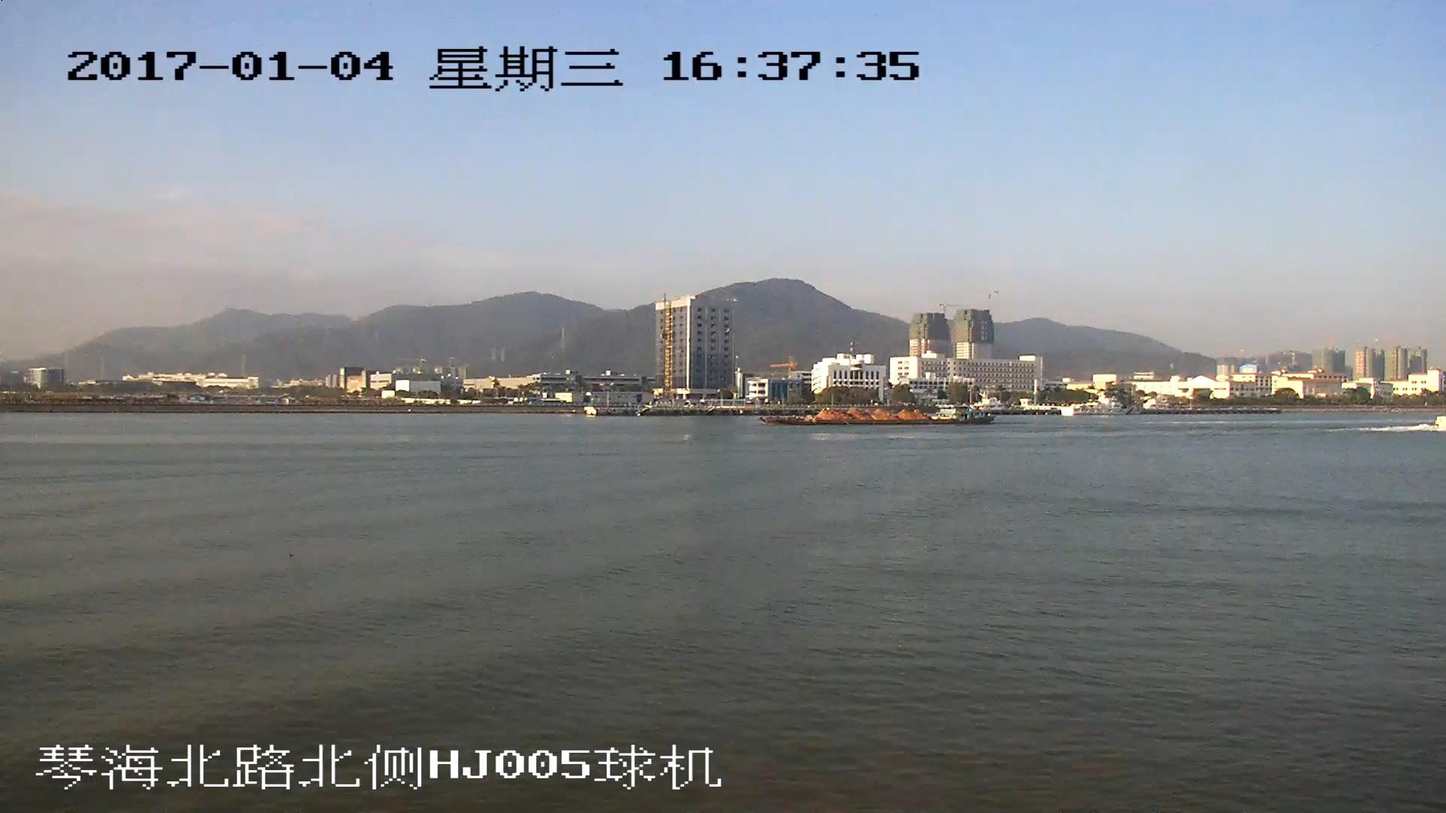ore carrier: (765, 403, 993, 425)
